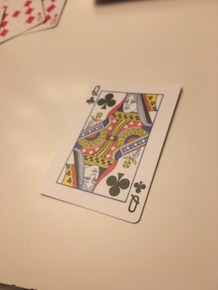QueenOfClubs: (38, 76, 184, 226)
